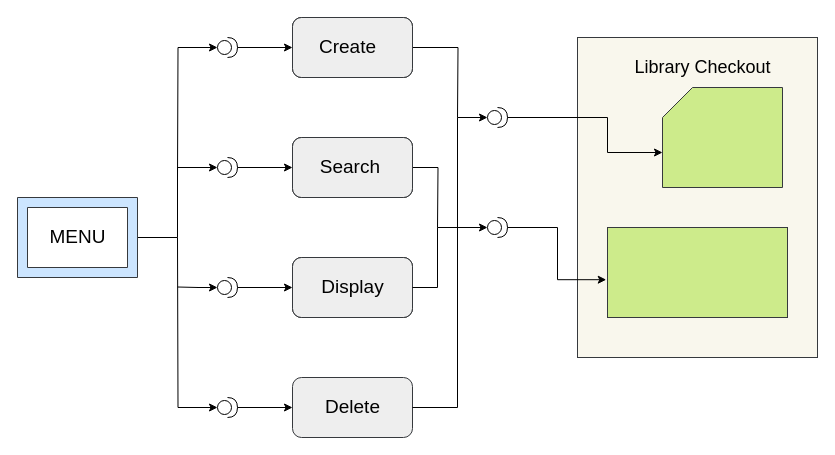
Some shapes in this 835 by 455 pixel diagram are drawn without their labels. The shapes that lost their labels are listed below. From the top down, each one's centre as x and y in pixels, then its label:
At point (722, 137): "Save".
At point (697, 272): "Read".
